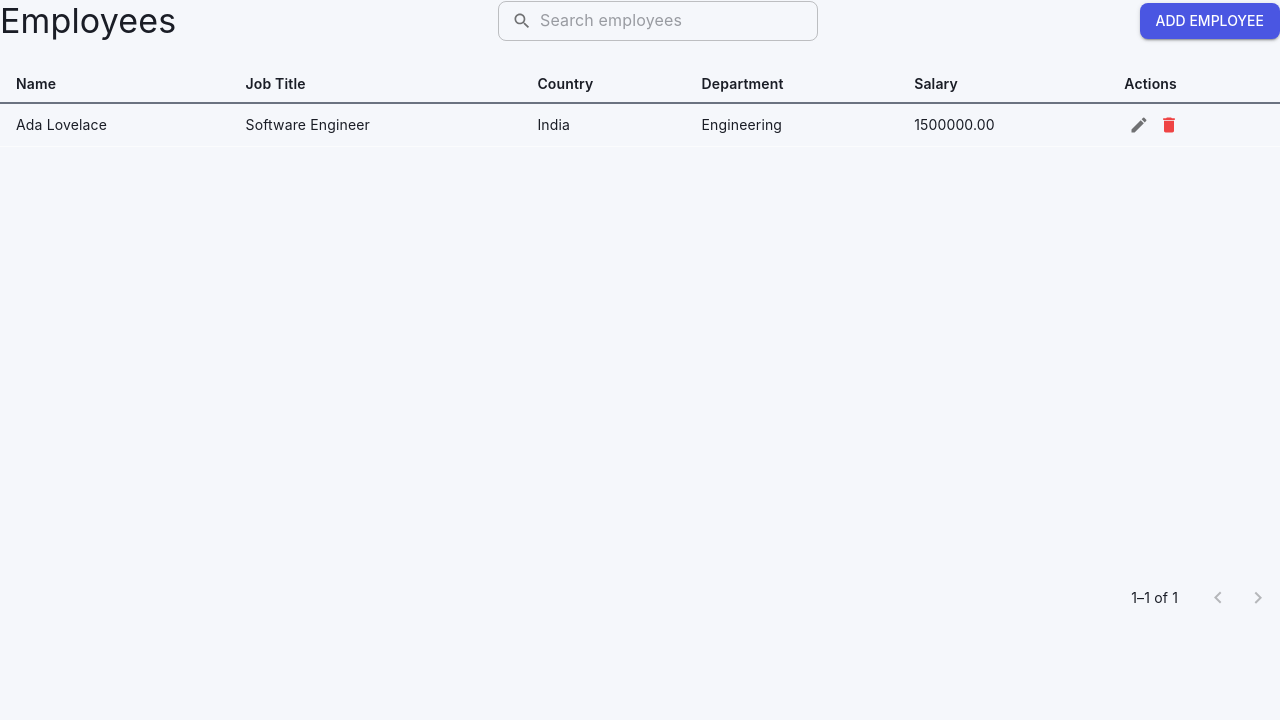
Test: EmployeesPage › deletes an employee and refreshes the list
expect the text "Ada Lovelace" is shown: met, box [0, 103, 230, 146]
Click the button named "delete ada lovelace" at {"x": 1169, "y": 125}, box [1154, 110, 1184, 140]
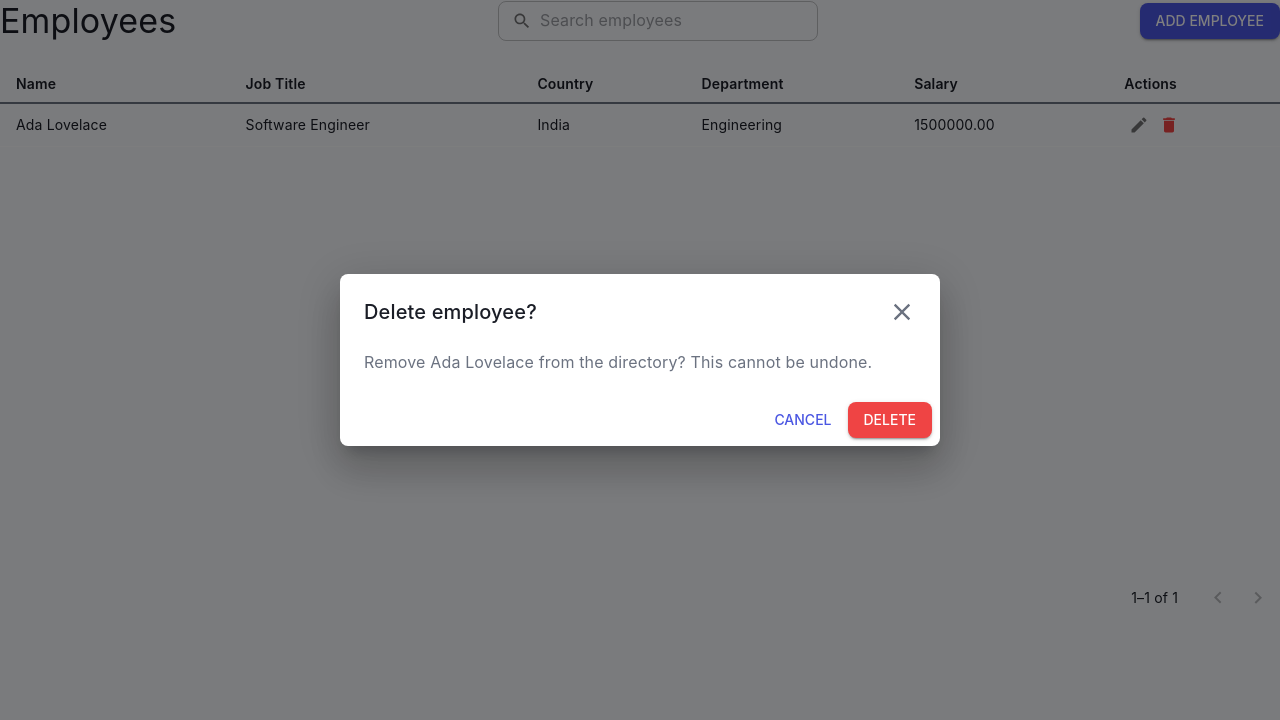
Click the button "Delete" at {"x": 890, "y": 420}, box [848, 402, 932, 438]
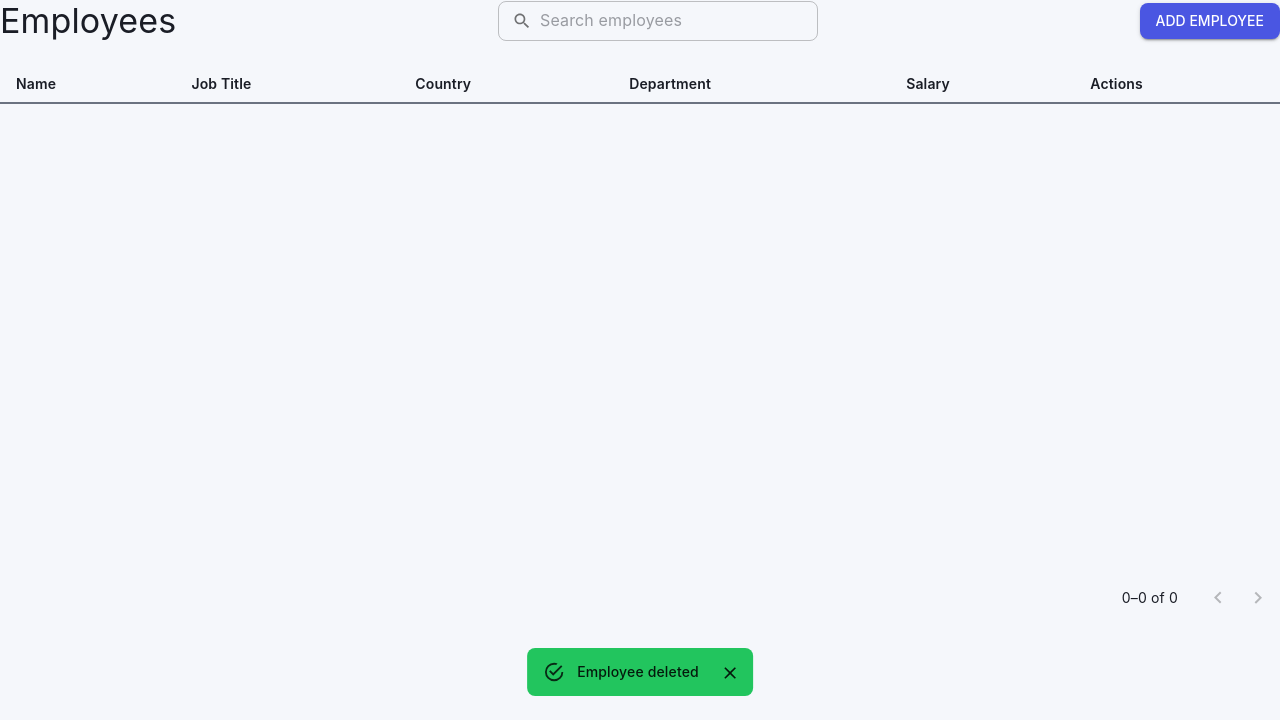
expect the text "Ada Lovelace" is gone: met
expect the message reads "Employee deleted": met, box [577, 663, 699, 680]
